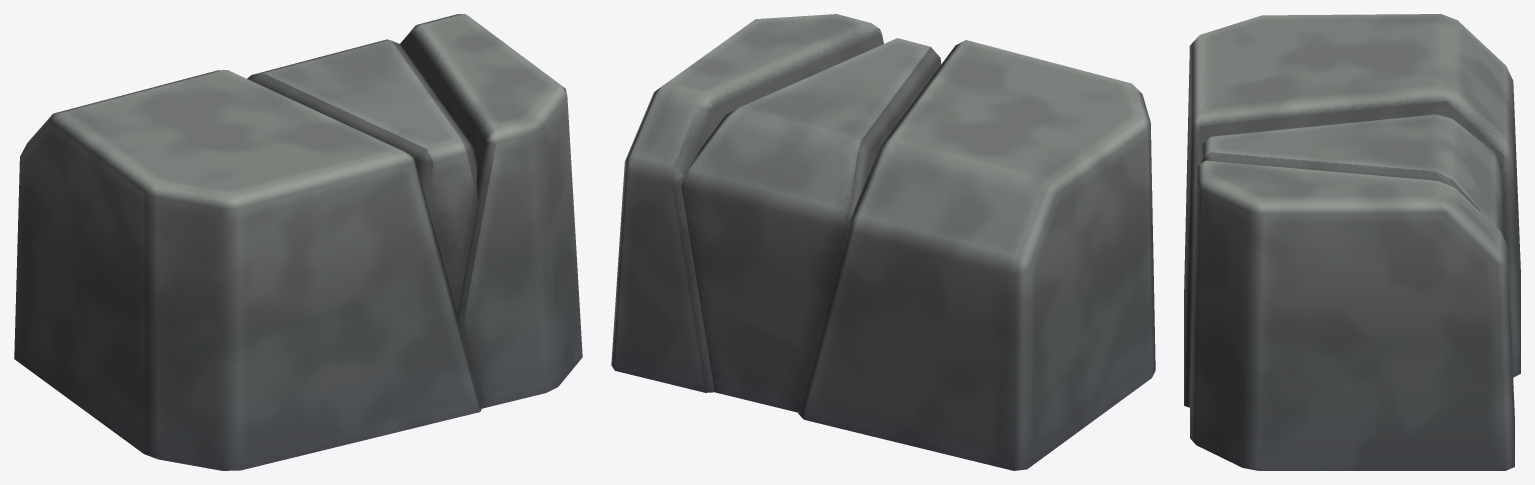
File: block_3.glb
3 renders of one model, left to right at view 1: azimuth 30°, elevation 25°; view 2: azimuth 150°, elevation 25°; view 3: azimuth 270°, elevation 25°, orthographic. The views are drawn at different scales.
Visible parts, largest first — view 1: block_3; view 2: block_3; view 3: block_3.
Boxes of the visible parts, <box> form: block_3: <box>14,14,582,470</box>; block_3: <box>611,14,1155,470</box>; block_3: <box>1184,14,1520,470</box>.
Bounding box in the file's own units: 2 × 1.2 × 1.4.
1 material, 1 textured.
